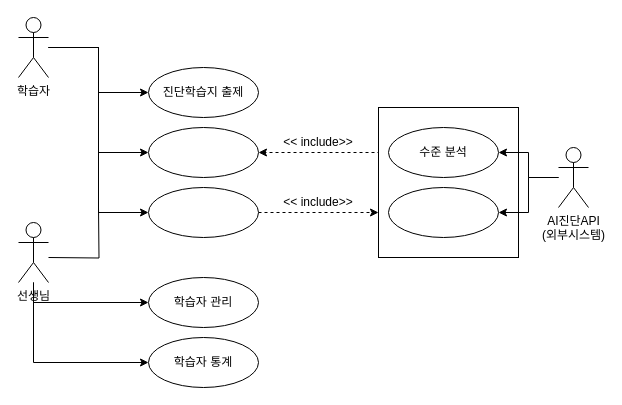
Some shapes in this 622 by 405 pixel diagram are drawn without their labels. The shapes that lost their labels are listed below. From the top down, each one's centre as x and y in pixels, then its label:
At [203,152]: "정오답 기록".
At [203,212]: "맞춤학습지 출제".
At [443,212]: "문항 추천".
